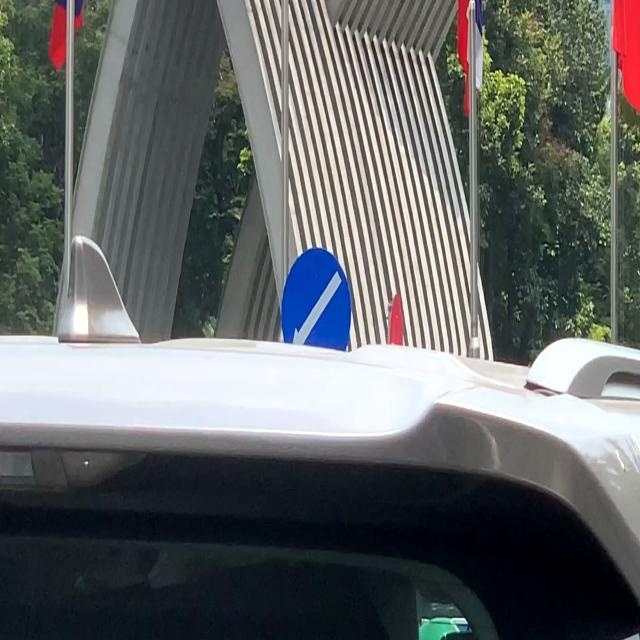bien_hieu_lenh: (281, 246, 351, 376)
